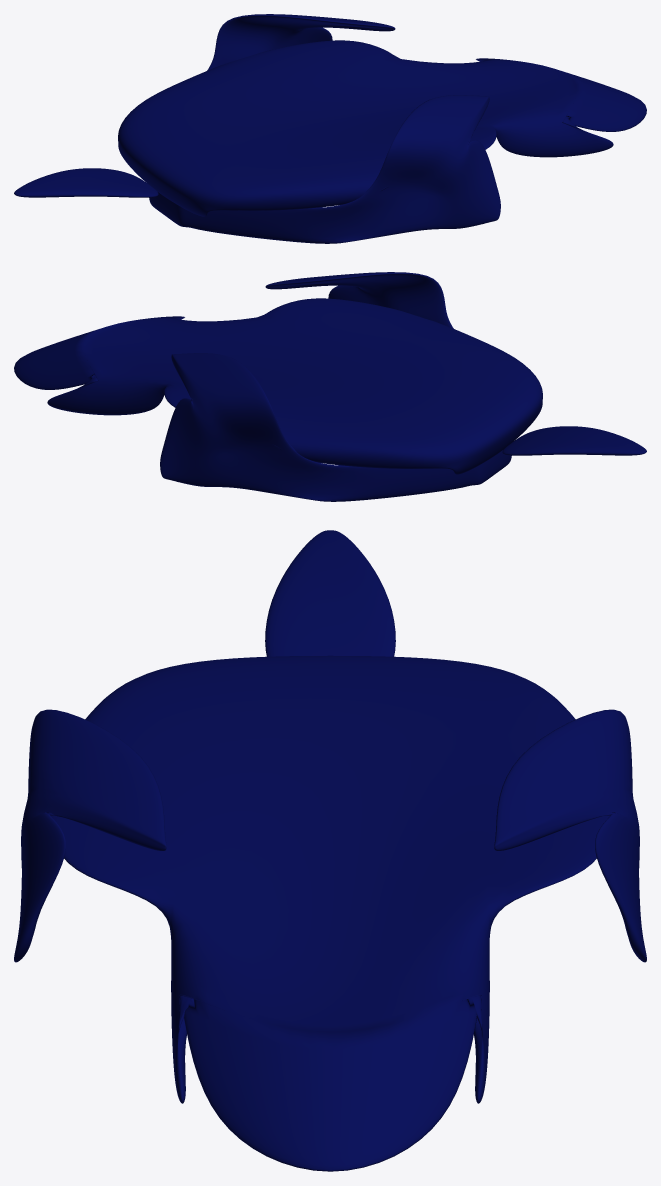
The model's file is spaceship.glb.
3 views of the same model, one above another, from view 1: azimuth 30°, elevation 25°; view 2: azimuth 150°, elevation 25°; view 3: azimuth 270°, elevation 25° (orthographic). The views are drawn at different scales.
Parts seen in each view (by area): view 1: Robo_spacecraft_main; view 2: Robo_spacecraft_main; view 3: Robo_spacecraft_main.
Boxes of the visible parts, left/top/right/bottom form: Robo_spacecraft_main: left=14, top=14, right=646, bottom=243; Robo_spacecraft_main: left=14, top=272, right=646, bottom=501; Robo_spacecraft_main: left=14, top=530, right=646, bottom=1171.
Size of the model in its own units: 7.86 by 1.32 by 3.93.
